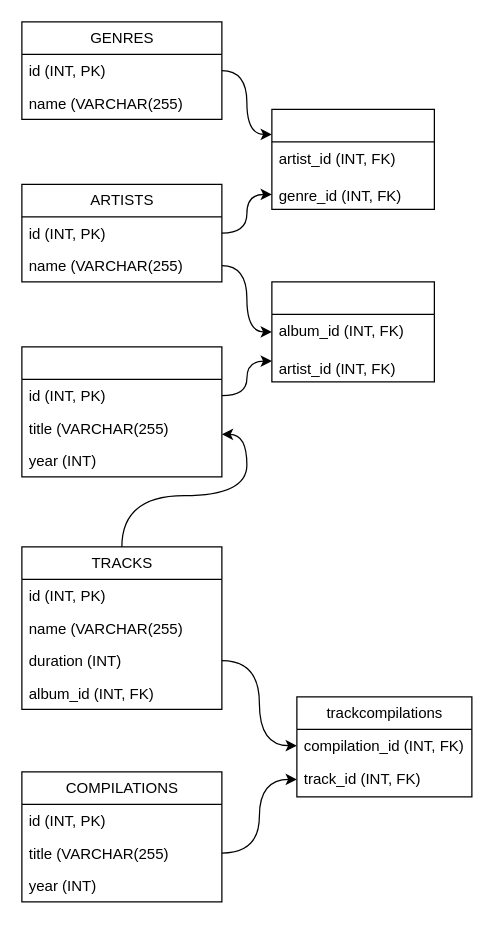
Image size: 494x928. Some labels were removed from this diagram. Here are the shapes that lost their labels. From the top down, the box of each, then its label:
(271, 108, 434, 209): artistgenres
(271, 281, 434, 382): albumartists
(21, 346, 222, 477): ALBUMS
